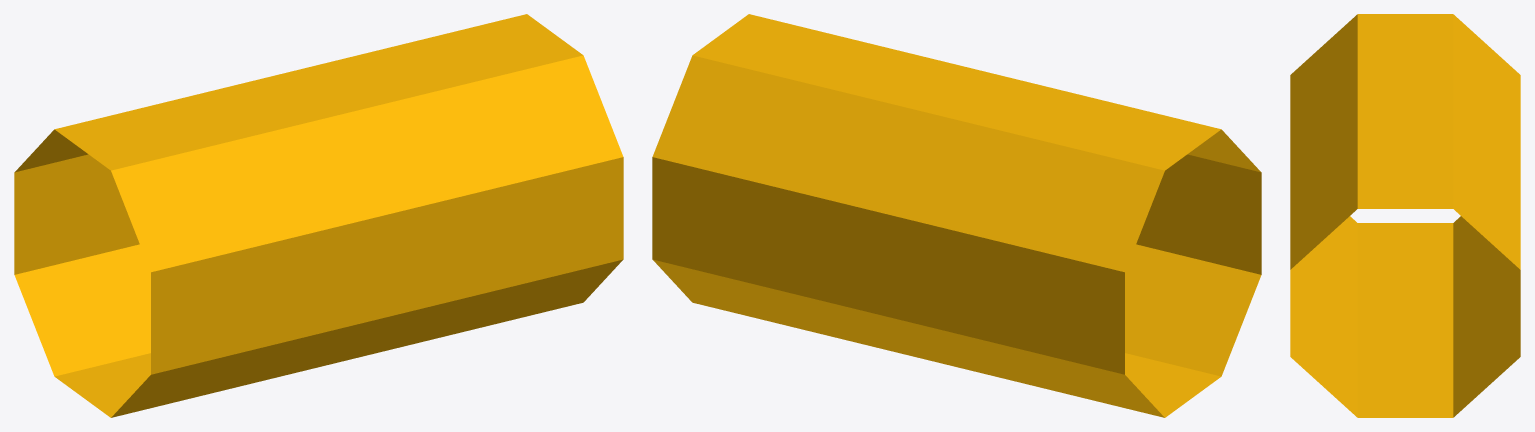
The model's file is mpe_driveshaft.dae.
3 views of the same model, side by side, from view 1: azimuth 30°, elevation 25°; view 2: azimuth 150°, elevation 25°; view 3: azimuth 270°, elevation 25° (orthographic). The views are drawn at different scales.
Visible parts, largest first — view 1: driveshaft; view 2: driveshaft; view 3: driveshaft.
Boxes of the visible parts, left/top/right/bottom form: driveshaft: left=14, top=14, right=623, bottom=417; driveshaft: left=652, top=14, right=1261, bottom=417; driveshaft: left=1290, top=14, right=1520, bottom=417.
Bounding box in the file's own units: 0.25 × 0.125 × 0.125.
